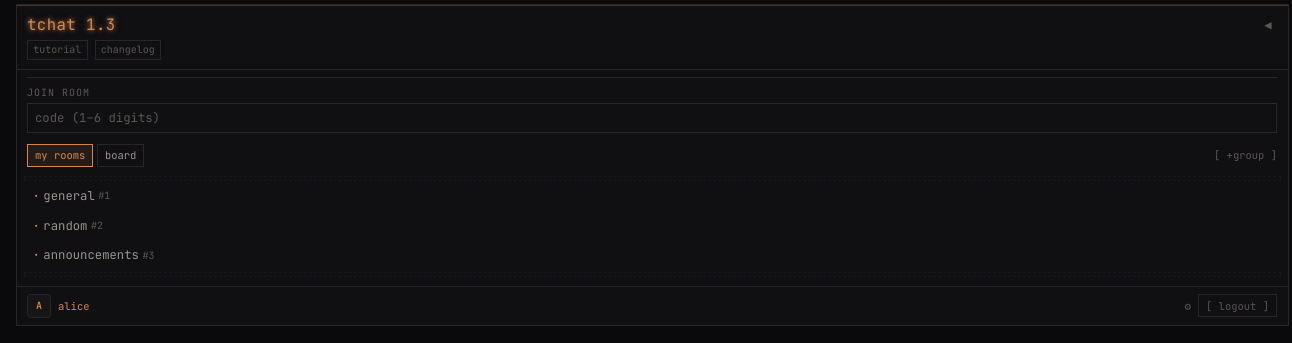
Scenario: Mute room context menu — unmuted room › dismisses the context menu with Escape key
The image size is (1292, 343).
Expected: the button with test id "gc-button-1" is shown, [32,188,110,204]
Expected: the button with test id "gc-button-2" is shown, [32,218,103,234]
Right-click the button with test id "gc-button-3" at (93, 255), box [32,247,154,263]
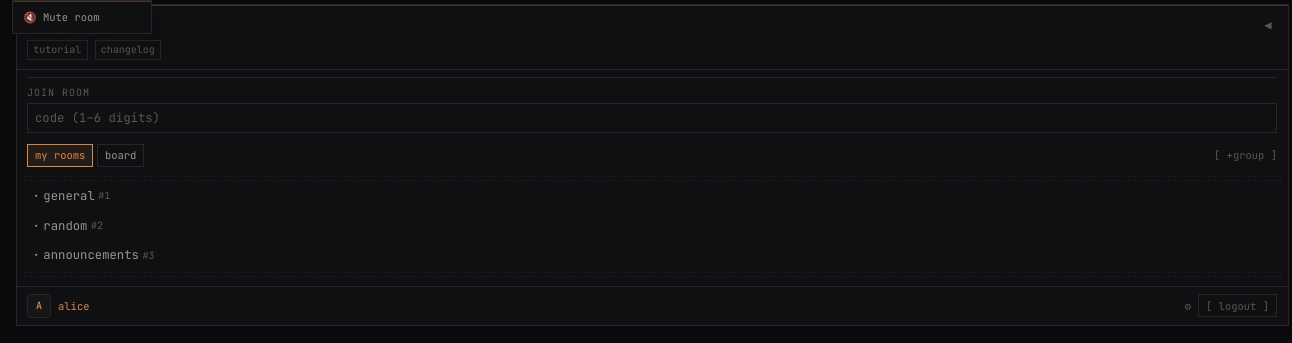
Expected: the button "🔇 Mute room" is shown, [13,4,151,29]
Press Escape
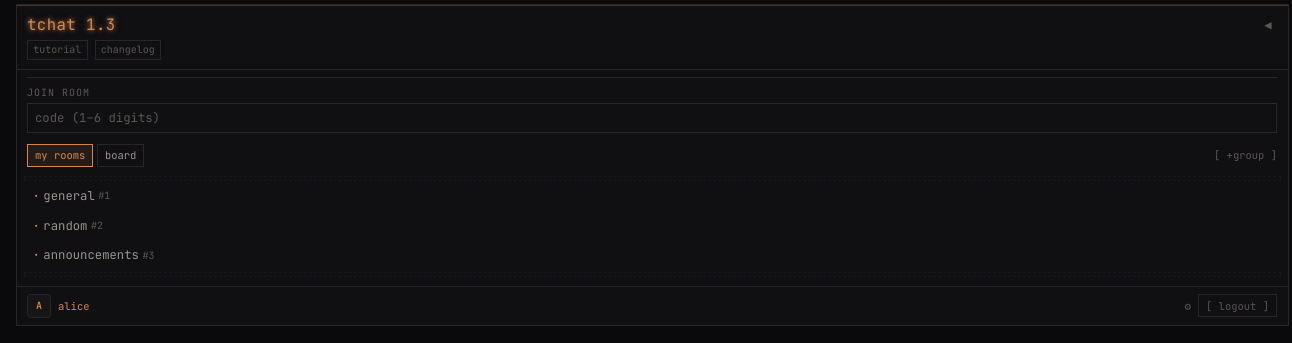
Expected: the button "🔇 Mute room" is gone
